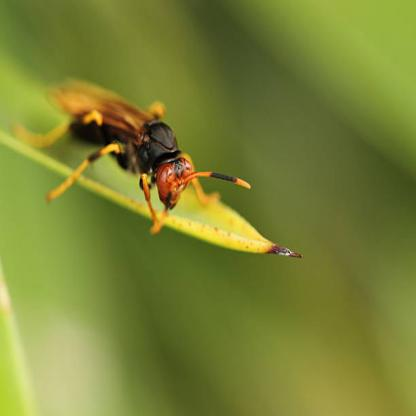sawfly: (14, 66, 254, 233)
